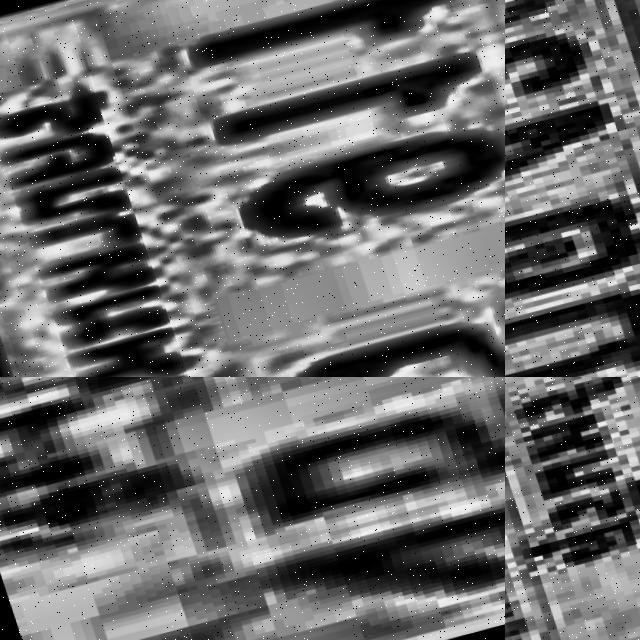license-plate: (0, 0, 505, 377), (0, 377, 505, 640), (505, 0, 640, 377), (505, 377, 640, 640)
